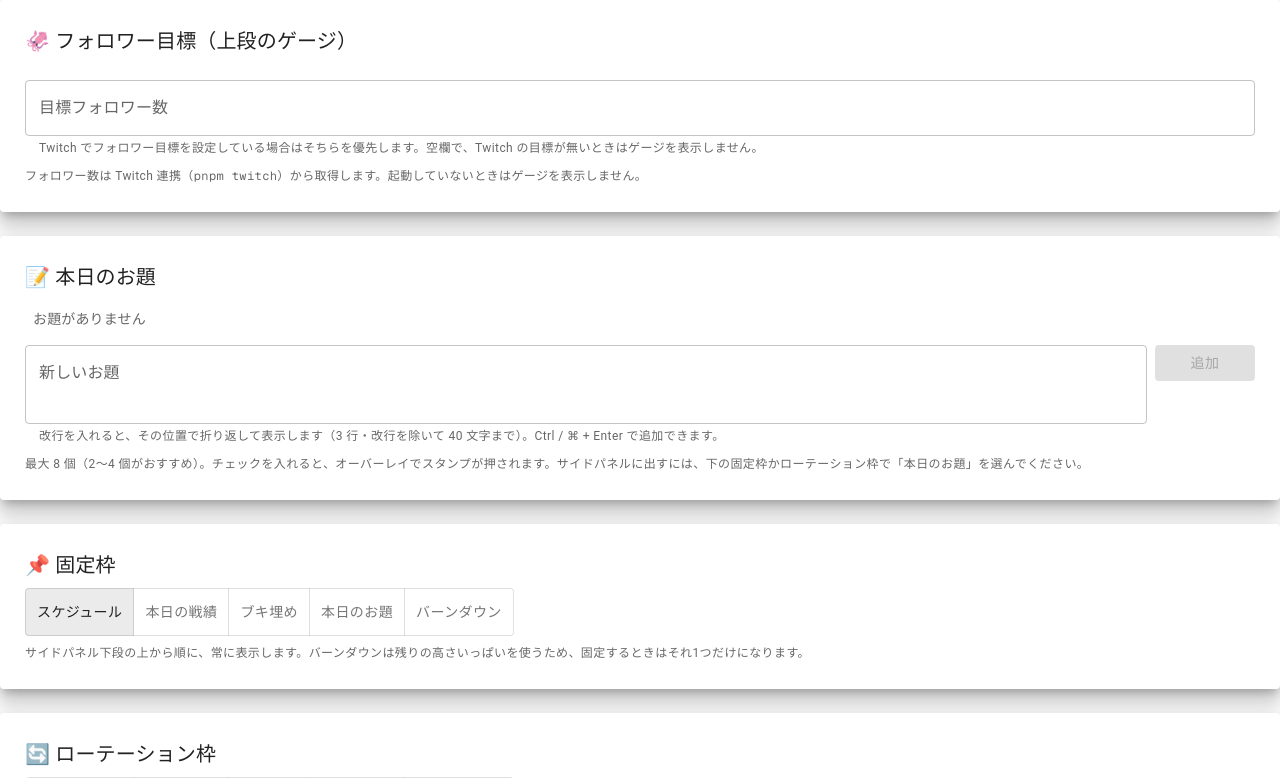
Test: SidePanelSettingsPanel › warns when the slots may not fit in the panel
The width and height of the screenshot is (1280, 778).
Check: the heading "📌 固定枠" is shown, box [25, 553, 116, 577]
Check: the text "収まらず" is not shown
Click the button "本日の戦績" below "📌 固定枠". click: x=181, y=612
box: [133, 588, 229, 636]
(page scrolled)
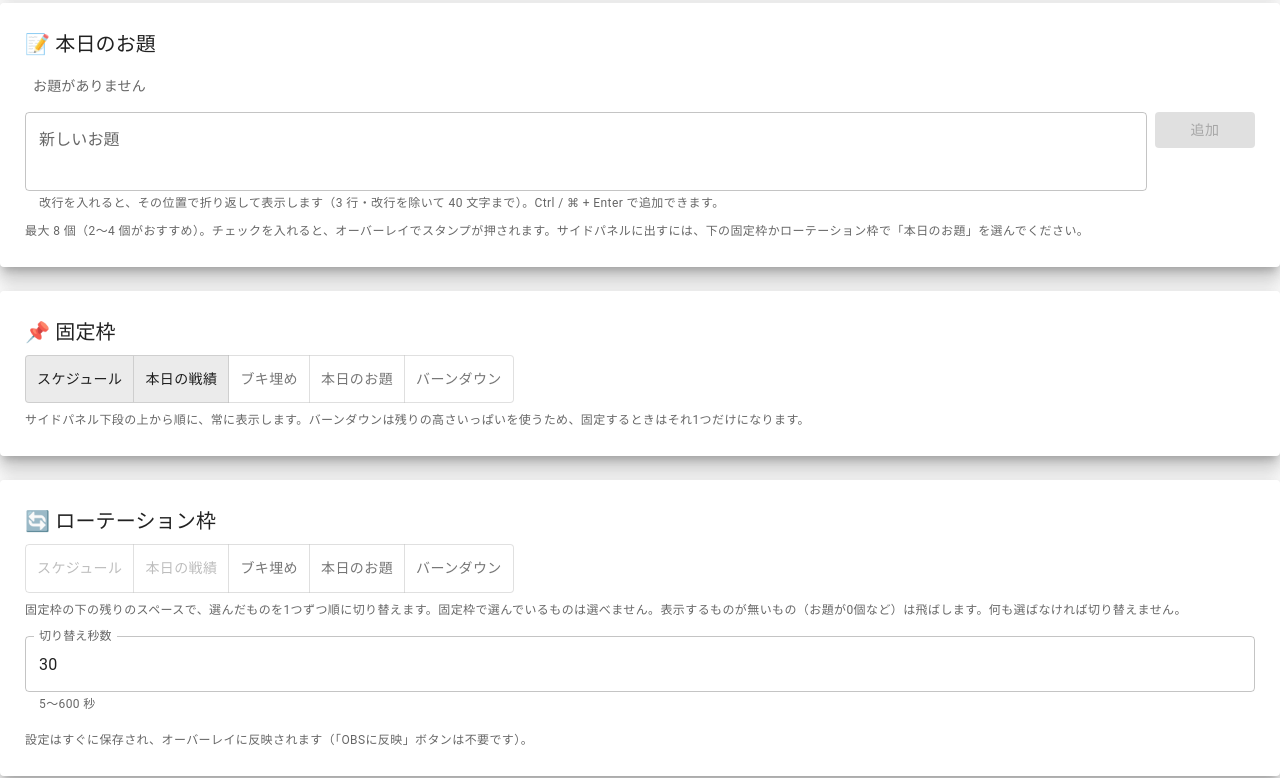
Click the button "バーンダウン" below "🔄 ローテーション枠". click: x=459, y=568
box: [404, 544, 514, 592]
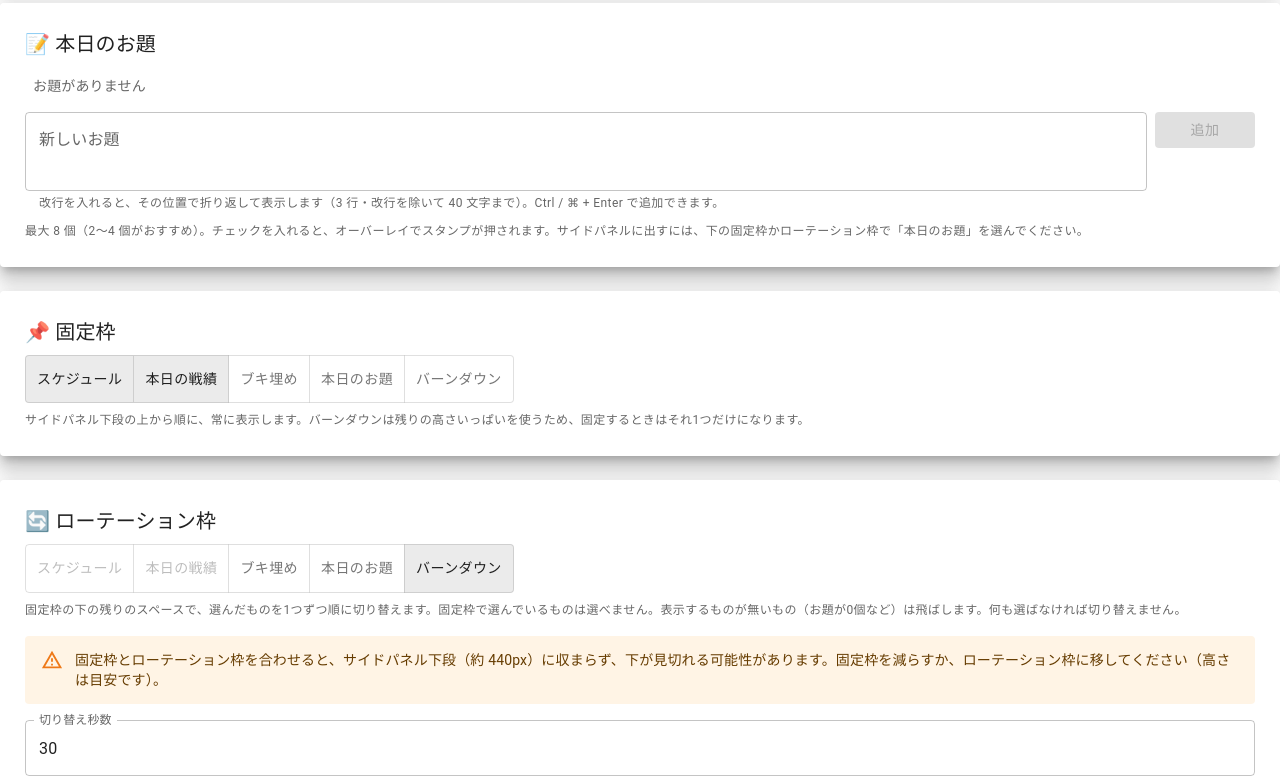
Check: the text "収まらず" is shown, box [75, 652, 1230, 688]
